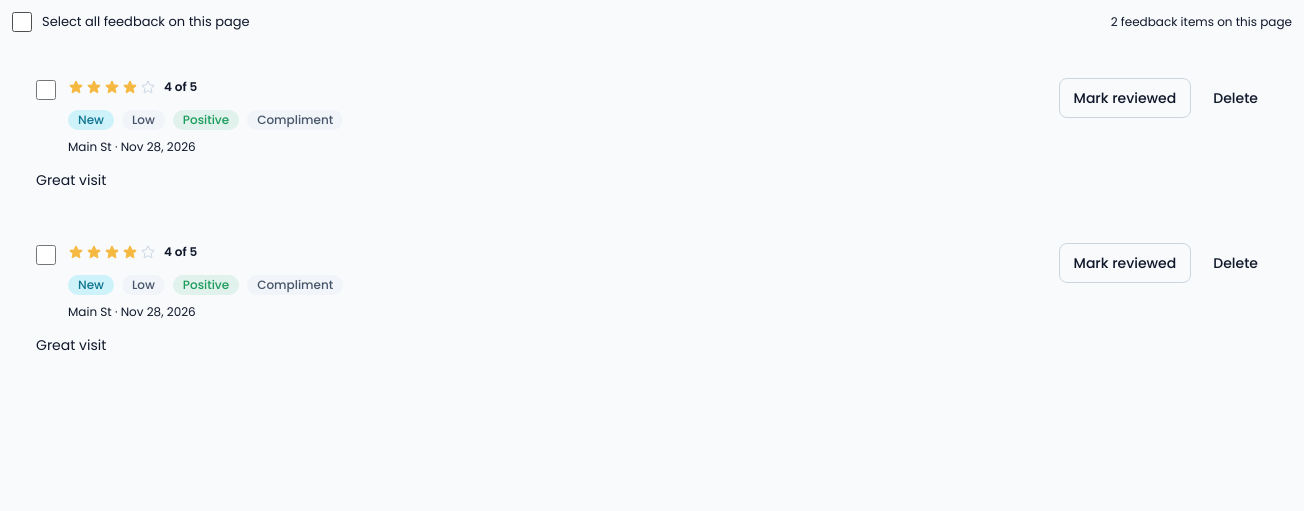
Test: FeedbackInboxList › selecting a row shows the bulk bar with a count of 1, and bulk-assigns just that id
Click the 1st checkbox named "Select feedback, 4 stars, Nov 28, 2026". click: (46, 90)
box: [36, 80, 56, 100]
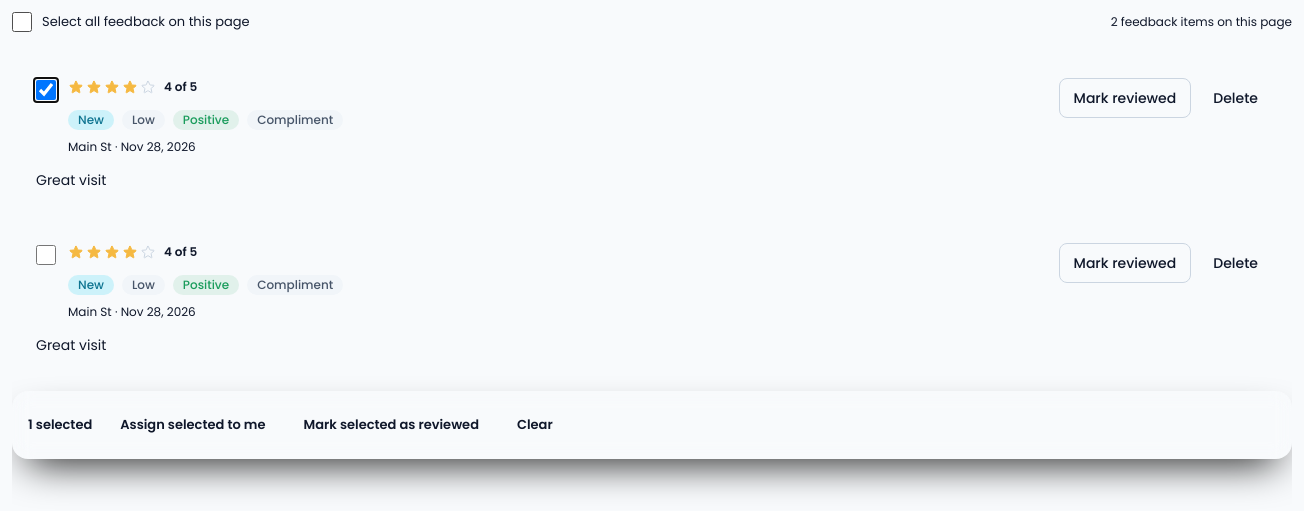
Expected: the text "1 selected" is shown, [28, 415, 92, 435]
Click the button "Assign selected to me". click: (193, 425)
box: [106, 403, 280, 447]
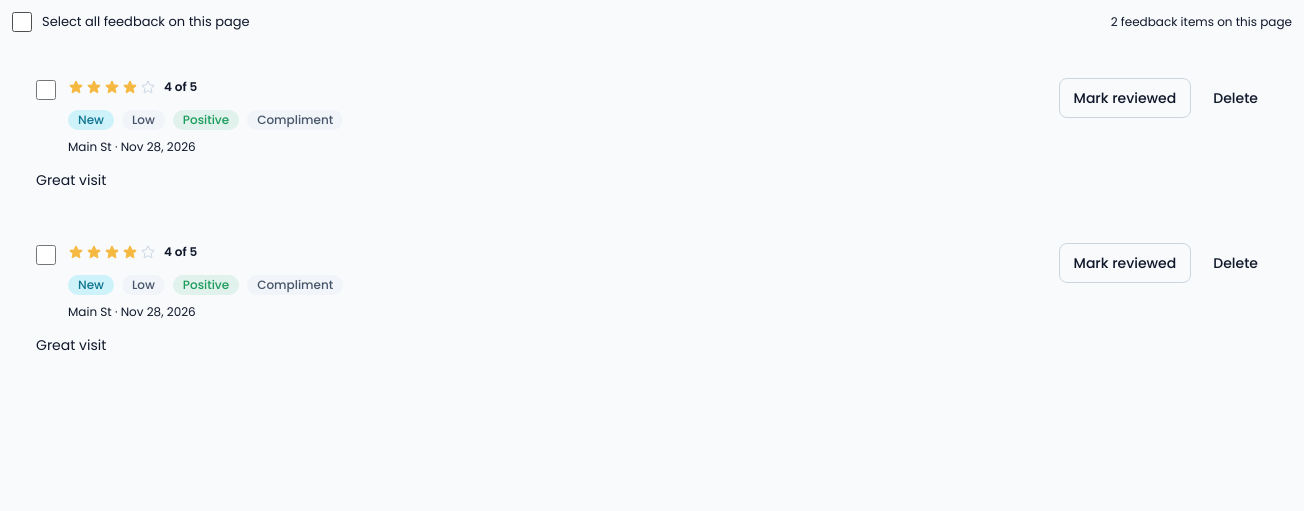
Expected: the text "1 selected" is gone
